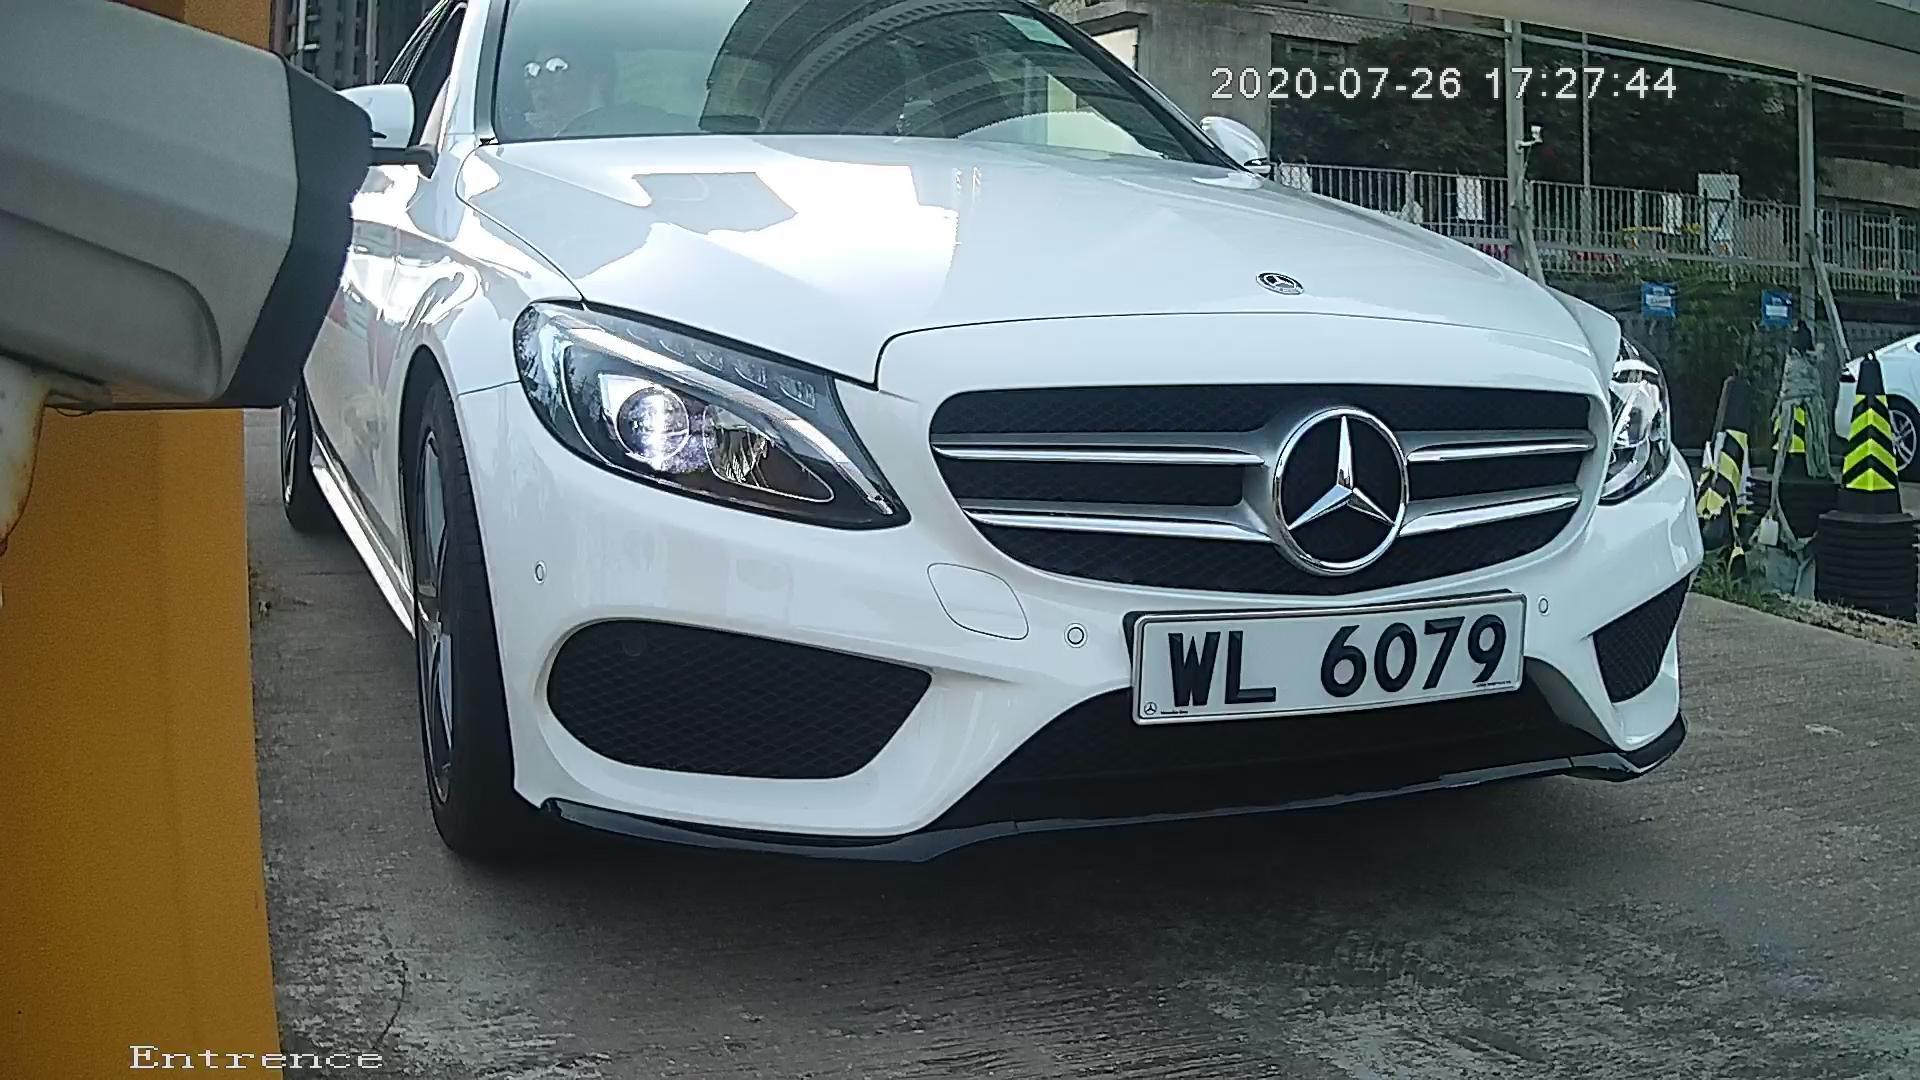privatecar: (276, 29, 1836, 926)
